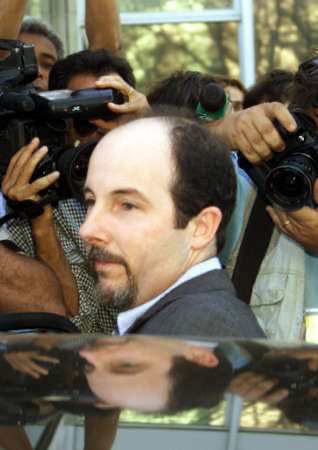Face: (71, 136, 188, 311), (82, 323, 184, 419)
